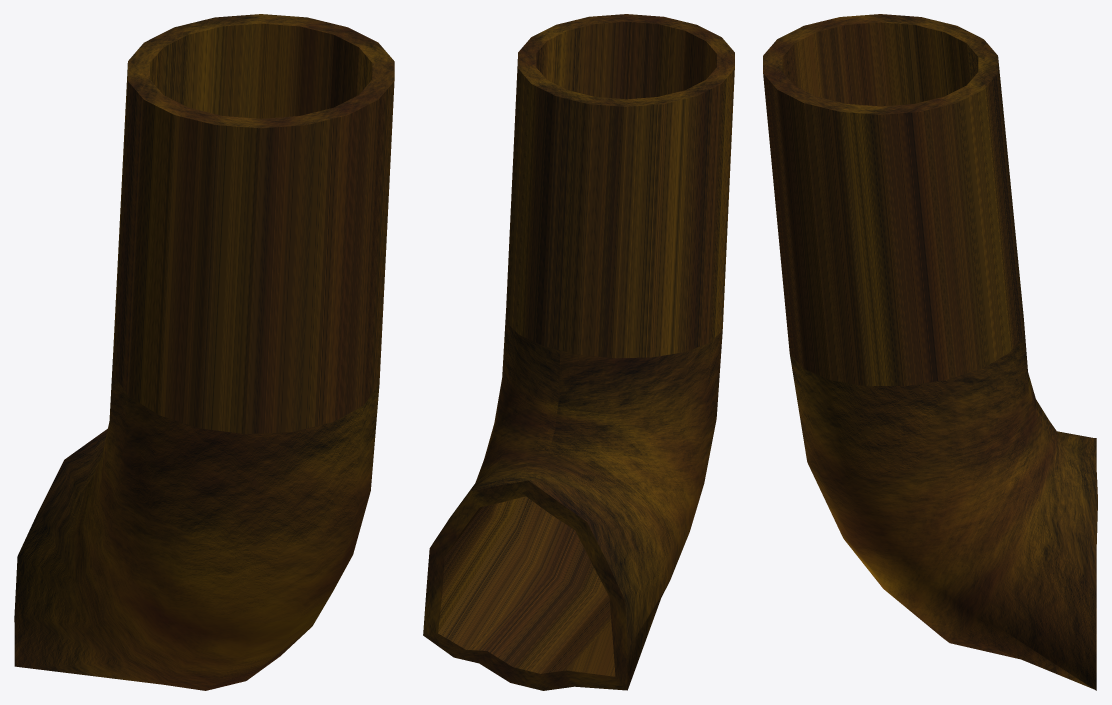
Rendered from PijpGrot.FBX.
3 views of the same model, side by side, from view 1: azimuth 30°, elevation 25°; view 2: azimuth 150°, elevation 25°; view 3: azimuth 270°, elevation 25° (orthographic). The views are drawn at different scales.
Parts seen in each view (by area): view 1: pijp; view 2: pijp; view 3: pijp.
Boxes of the visible parts, <box> form: pijp: <box>14,14,394,690</box>; pijp: <box>423,14,734,690</box>; pijp: <box>763,14,1097,690</box>.
Bounding box in the file's own units: 678 × 1753 × 886.
